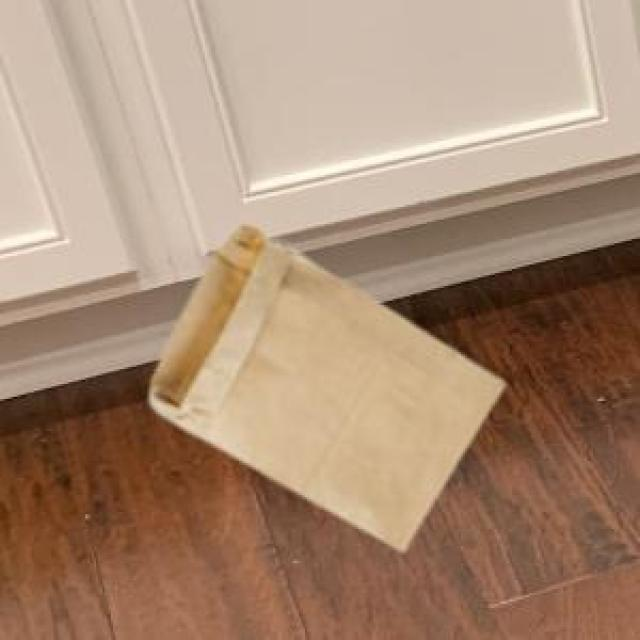paper: (147, 220, 499, 546)
